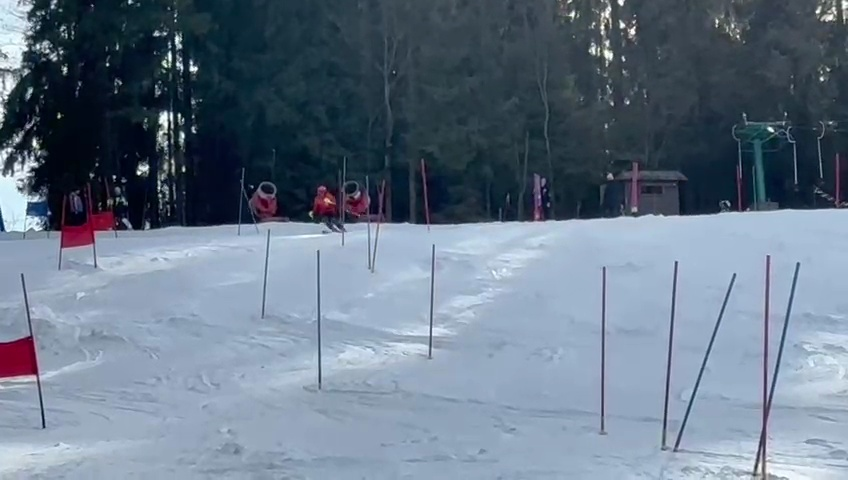gate: (672, 261, 743, 457), (753, 252, 802, 480), (749, 251, 781, 480), (0, 270, 44, 436), (14, 268, 54, 437), (661, 253, 680, 453), (0, 270, 23, 435), (593, 259, 613, 437), (312, 246, 331, 393), (423, 240, 444, 362), (367, 170, 389, 279), (360, 174, 378, 280), (80, 180, 101, 269), (235, 166, 260, 235), (257, 224, 274, 322), (333, 153, 350, 250), (53, 185, 71, 272), (418, 157, 435, 230), (362, 181, 372, 275), (233, 165, 246, 237), (531, 172, 542, 223)
